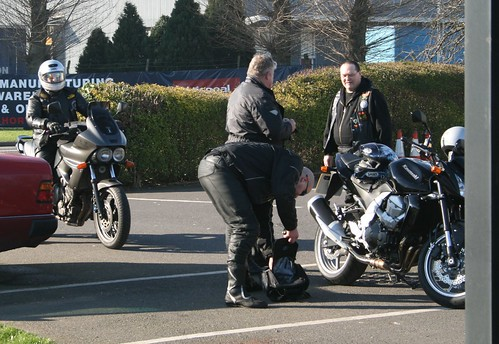helmet: (33, 53, 73, 94), (437, 116, 462, 154)
